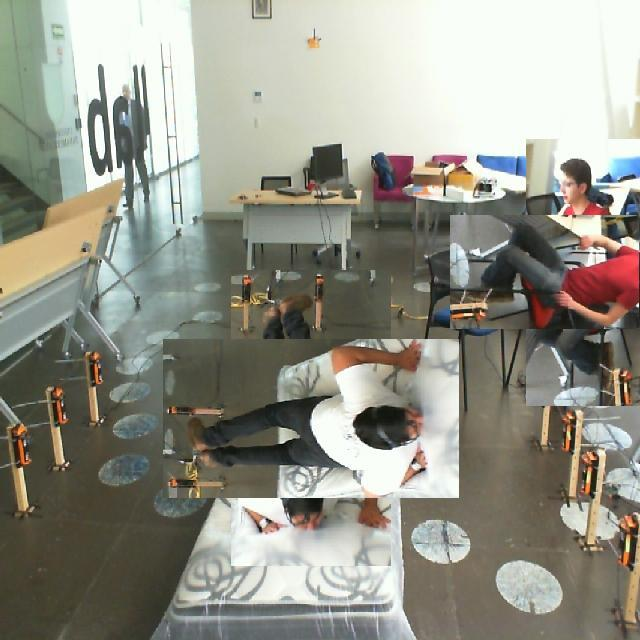Fall: (186, 336, 425, 520)
NotFall: (458, 124, 640, 476)
